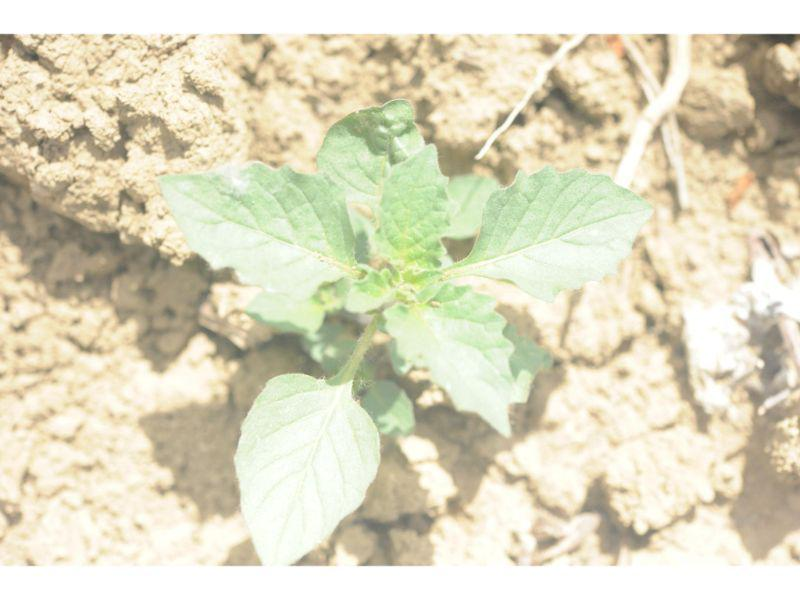nightshade: (159, 99, 655, 575)
